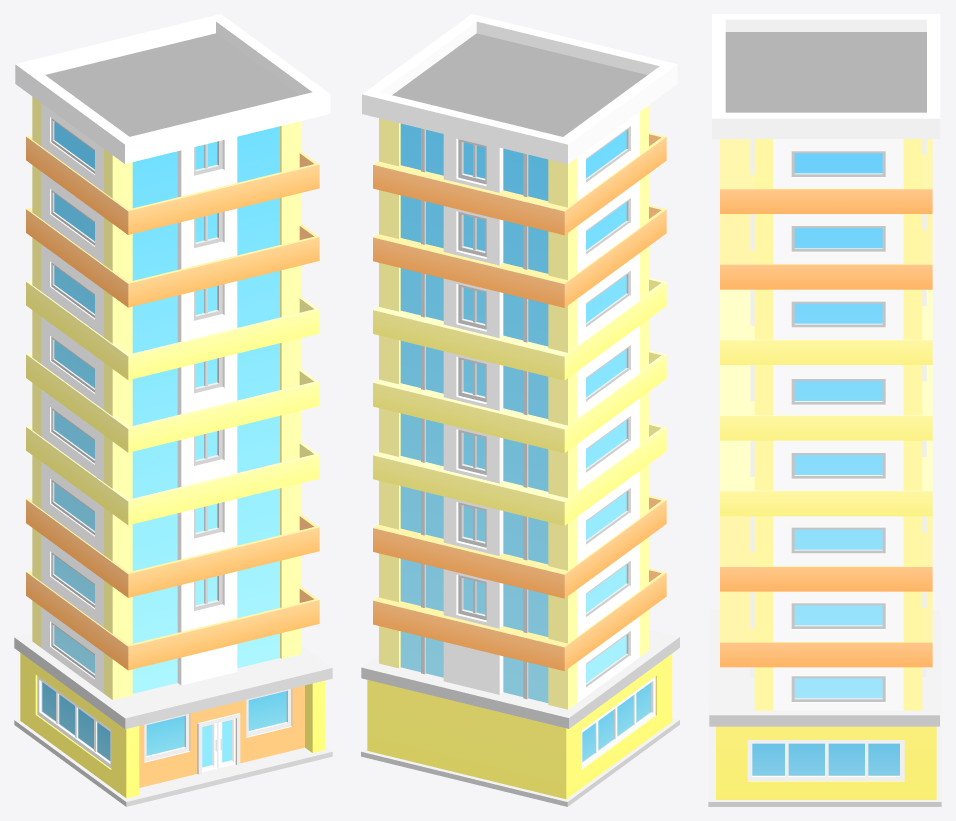
The model's file is Building_Living_42.glb.
3 renders of one model, left to right at view 1: azimuth 30°, elevation 25°; view 2: azimuth 150°, elevation 25°; view 3: azimuth 270°, elevation 25°, orthographic. The views are drawn at different scales.
Visible parts, largest first — view 1: Building_Living_42; view 2: Building_Living_42; view 3: Building_Living_42.
Boxes of the visible parts, x1,y1,x2,y2 form: Building_Living_42: (14, 14, 332, 806); Building_Living_42: (361, 14, 679, 806); Building_Living_42: (708, 14, 941, 806).
Bounding box in the file's own units: 9.92 × 30.2 × 9.28.
2 materials, 2 textured.
